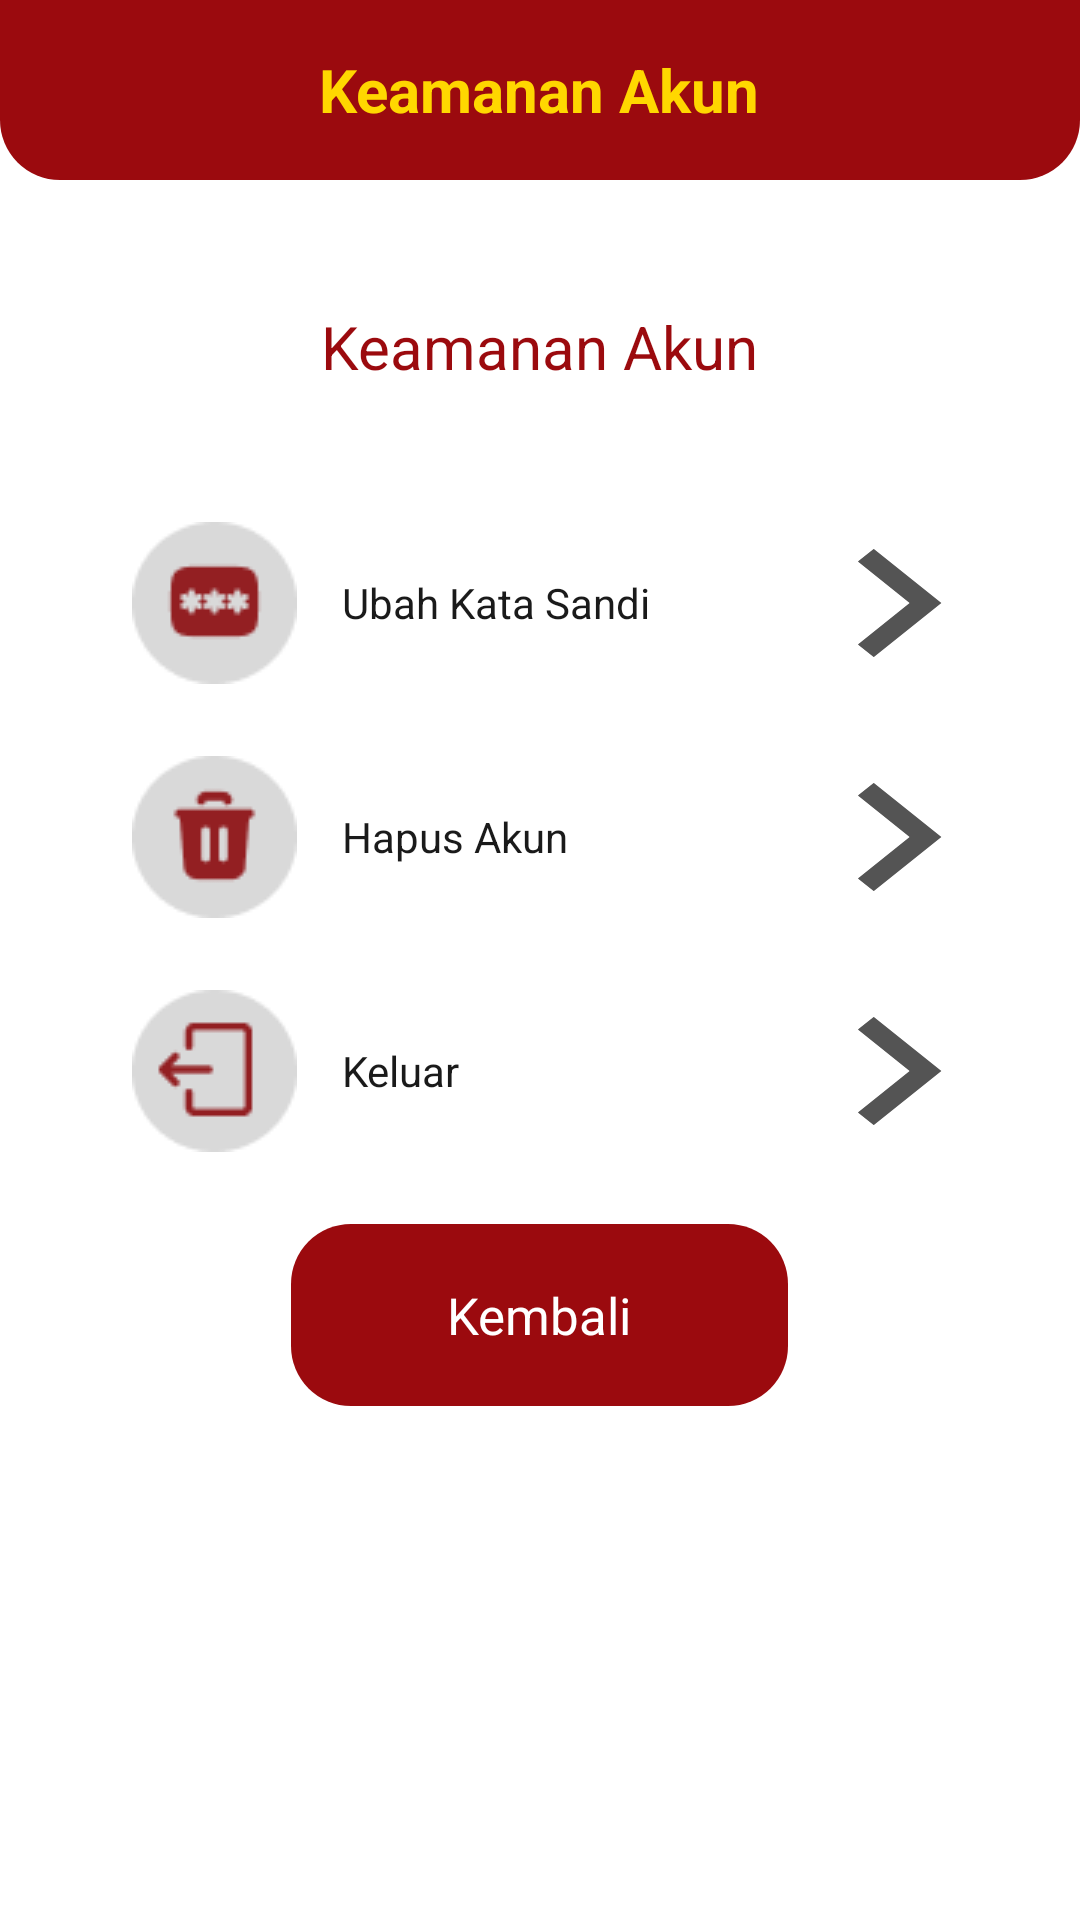

Locate icon controls on the screen. Image size 1080×1920, boxes as (x1, y1, x2, y2).
blackarrow: (858, 549, 941, 657), (858, 783, 941, 891), (858, 1017, 941, 1125)
changepassicon: (132, 522, 297, 684)
deleteicon: (132, 756, 297, 918)
exitakun: (132, 990, 297, 1152)
